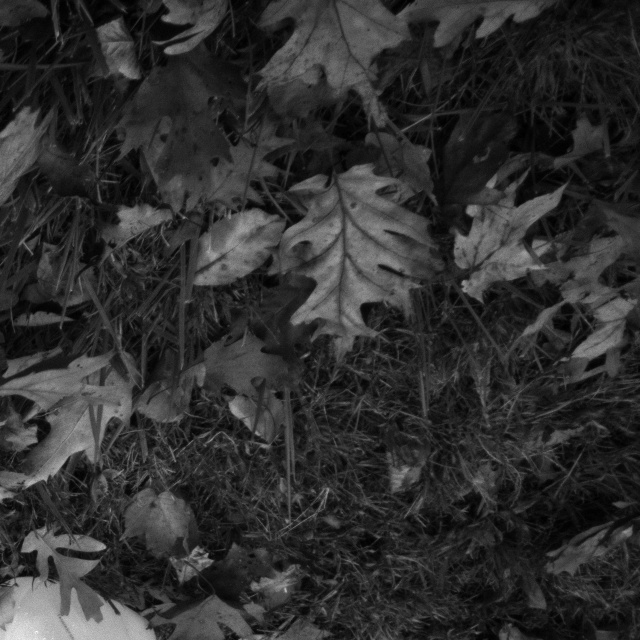can: (0, 570, 186, 640)
